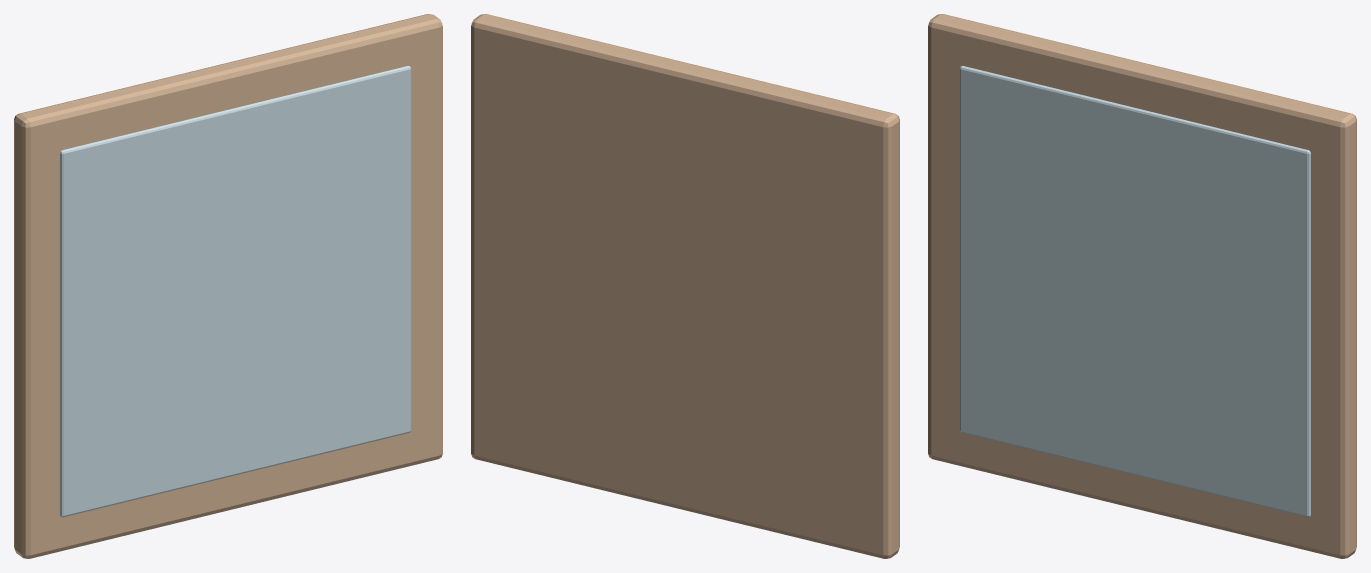
Rendered from children_picture_02.glb.
3 renders of one model, left to right at view 1: azimuth 30°, elevation 25°; view 2: azimuth 150°, elevation 25°; view 3: azimuth 330°, elevation 25°, orthographic.
Visible parts, largest first — view 1: Tint.001, Frame.001; view 2: Frame.001; view 3: Tint.001, Frame.001.
Boxes of the visible parts, x1,y1,x2,y2 form: Tint.001: (60, 66, 410, 517); Frame.001: (14, 14, 442, 558); Frame.001: (471, 14, 899, 558); Tint.001: (960, 66, 1310, 517); Frame.001: (928, 14, 1356, 558).
Size of the model in its own units: 0.72 by 0.72 by 0.045.
